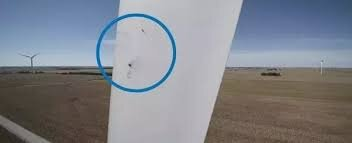faulty: (93, 11, 240, 108)
